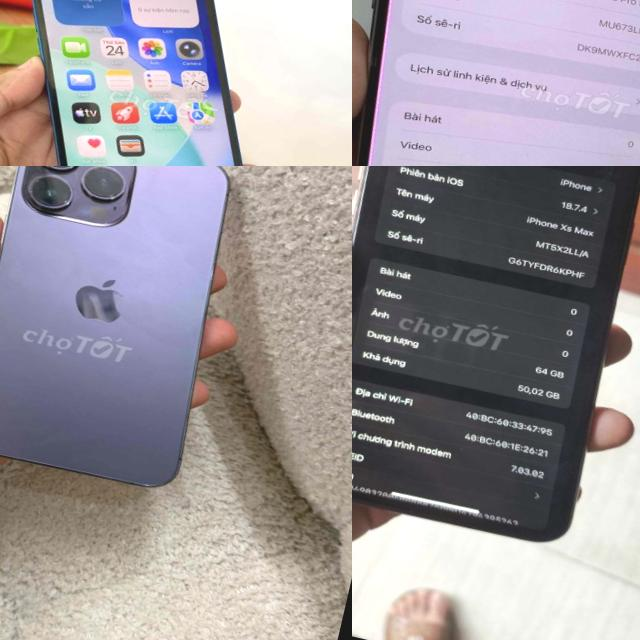gen_12_13: (0, 0, 310, 166)
gen_14: (0, 166, 254, 502)
gen_15: (352, 0, 640, 166)
gen_x_xs: (352, 166, 640, 541)
screen_defect: (352, 0, 495, 166), (581, 0, 640, 166)
